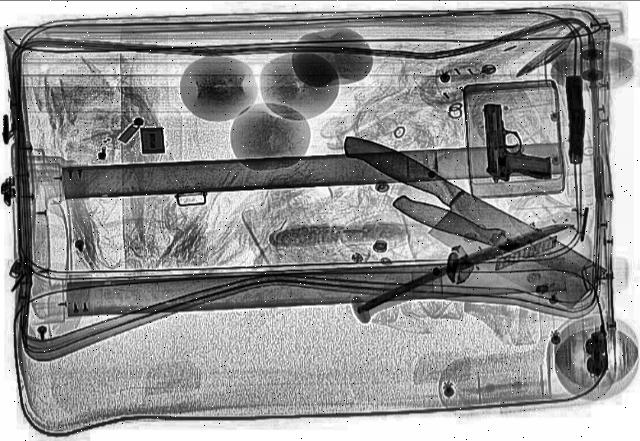Gun: (484, 104, 554, 184), (564, 77, 590, 164)
Knife: (306, 126, 622, 314), (388, 191, 614, 294), (348, 220, 580, 314)
